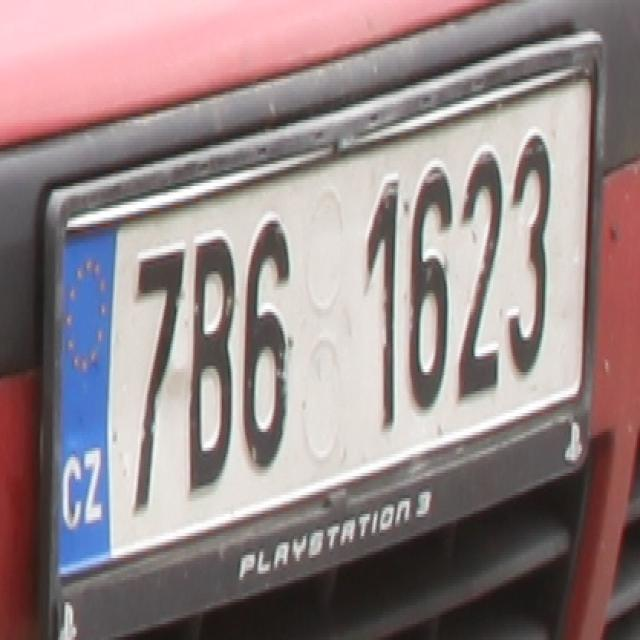1: (361, 161, 401, 432)
2: (456, 142, 501, 400)
3: (505, 120, 550, 381)
6: (239, 208, 286, 479), (407, 148, 453, 419)
7: (128, 236, 184, 517)
B: (188, 233, 236, 495)
